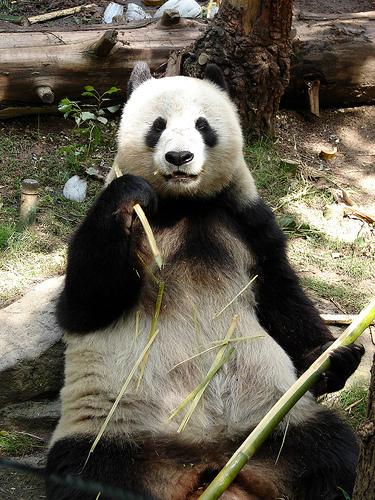panda: (46, 63, 334, 499), (222, 344, 363, 499)
